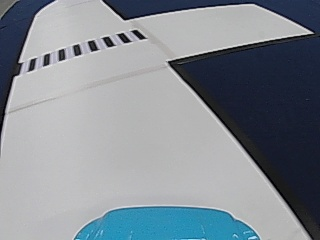CrossWalk: (22, 30, 145, 68)
